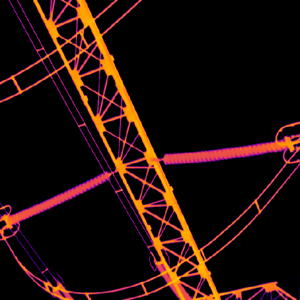insulator: (6, 169, 110, 226), (162, 135, 293, 165)
